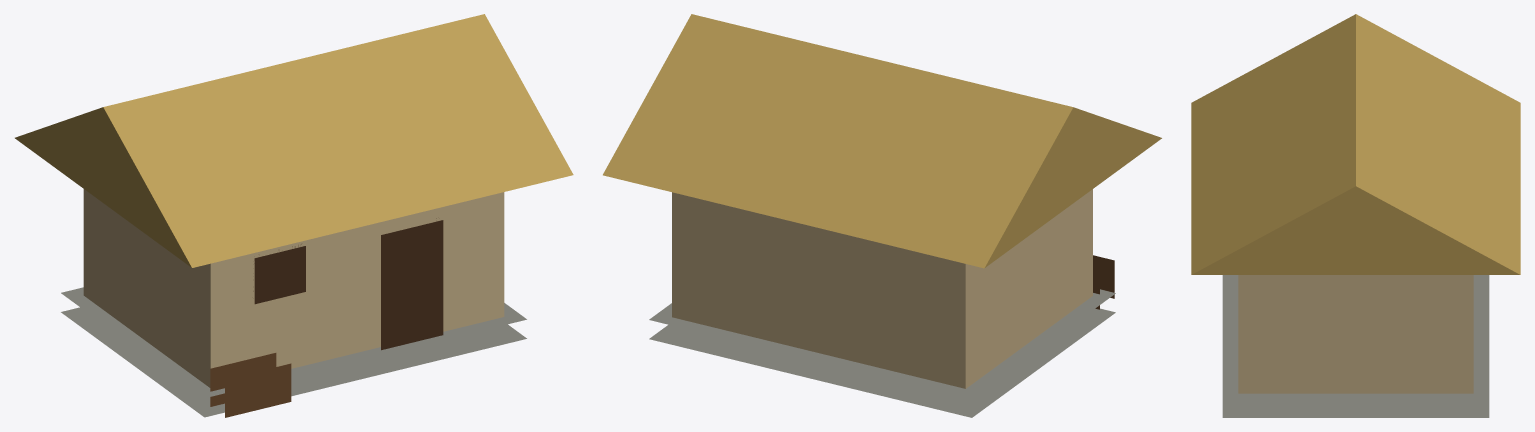
The model's file is prop_choga_lod1.glb.
3 renders of one model, left to right at view 1: azimuth 30°, elevation 25°; view 2: azimuth 150°, elevation 25°; view 3: azimuth 270°, elevation 25°, orthographic. The views are drawn at different scales.
Parts seen in each view (by area): view 1: prop_choga_lod1; view 2: prop_choga_lod1; view 3: prop_choga_lod1.
Boxes of the visible parts, x1,y1,x2,y2 form: prop_choga_lod1: (15,14,573,417); prop_choga_lod1: (603,14,1161,417); prop_choga_lod1: (1191,14,1520,417).
Bounding box in the file's own units: 5.2 × 3.45 × 4.2.
